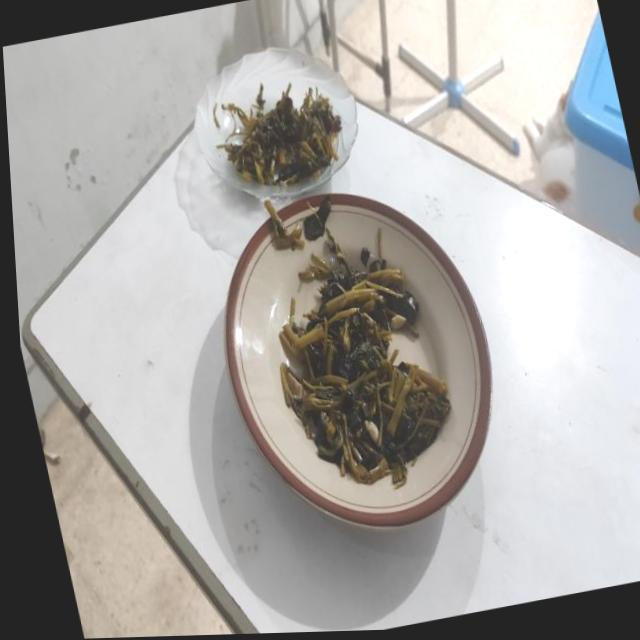tumis_kangkung: (279, 258, 451, 486), (218, 82, 342, 186)
